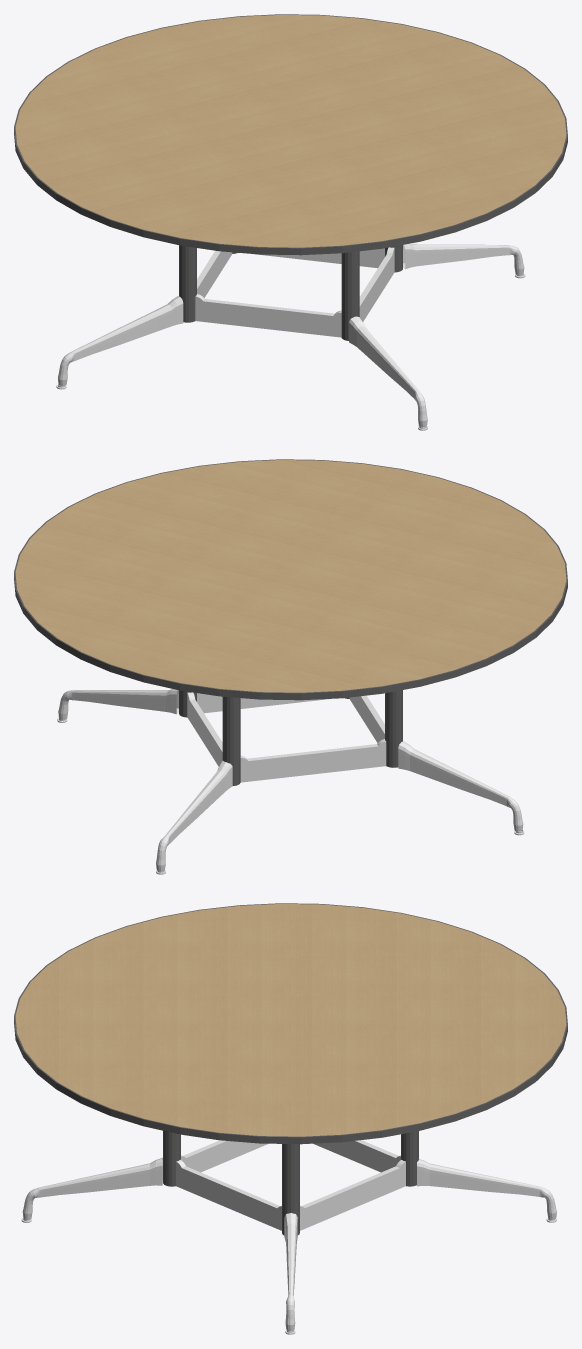
3 views of the same model, one above another, from view 1: azimuth 30°, elevation 25°; view 2: azimuth 150°, elevation 25°; view 3: azimuth 270°, elevation 25° (orthographic).
Parts seen in each view (by area): view 1: Mesh14_HEdge1_Component_1_1_Model; view 2: Mesh14_HEdge1_Component_1_1_Model; view 3: Mesh14_HEdge1_Component_1_1_Model.
Part boxes in pixels (x1,y1,x2,y2): Mesh14_HEdge1_Component_1_1_Model: (14, 14, 567, 430); Mesh14_HEdge1_Component_1_1_Model: (14, 459, 567, 874); Mesh14_HEdge1_Component_1_1_Model: (14, 903, 567, 1334).
Size of the model in its own units: 1.81 by 1.81 by 0.7248.
4 materials, 1 textured.
